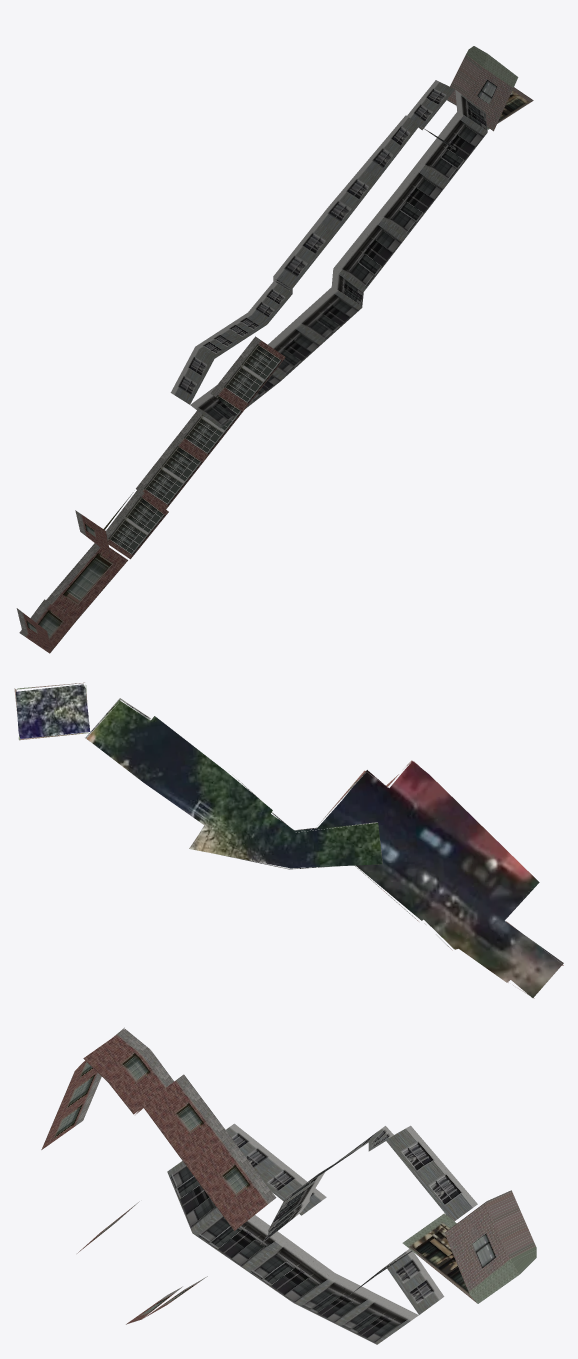
File: tile_LOD4_r8_c9.glb
The picture shows the model from 3 angles, top to bottom: view 1: azimuth 30°, elevation 25°; view 2: azimuth 150°, elevation 25°; view 3: azimuth 270°, elevation 25°; orthographic projection. The views are drawn at different scales.
Bounding box in the file's own units: 64.25 × 36.75 × 29.5.
12 materials, 12 textured.
